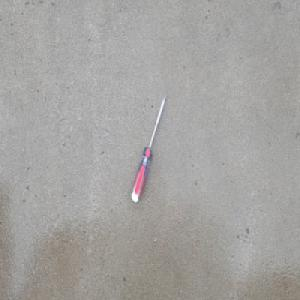Screwdriver: (130, 91, 167, 203)
